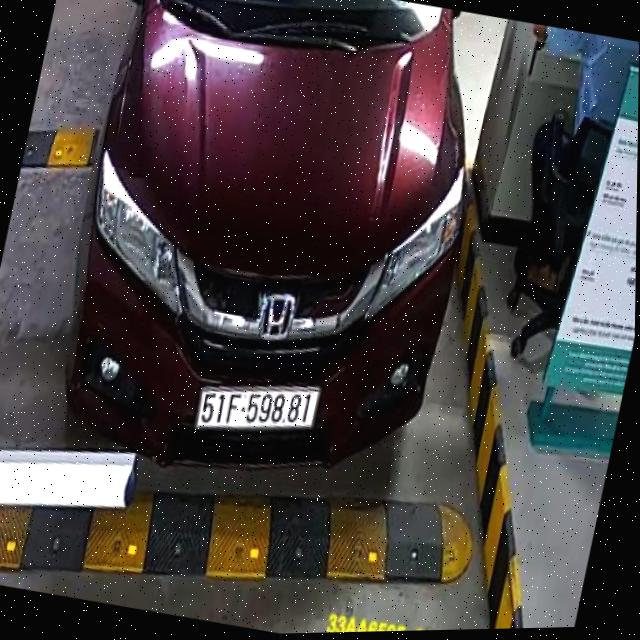car: (0, 0, 519, 536)
plate: (192, 366, 325, 447)
